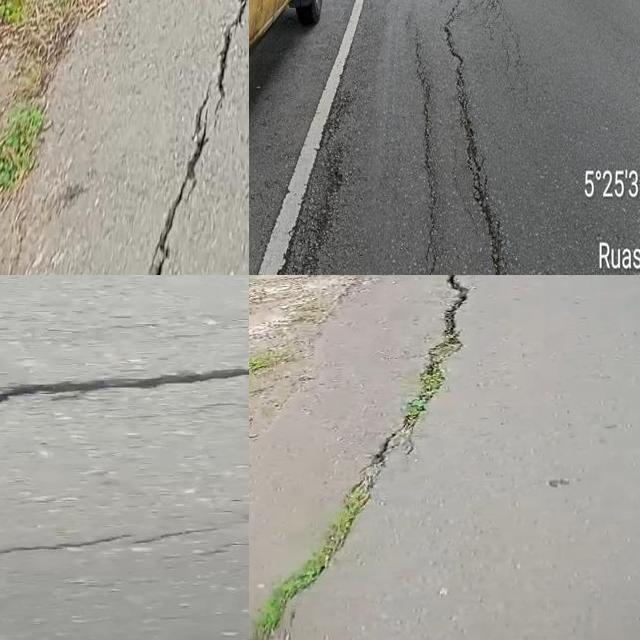Melintang: (0, 349, 249, 420)
Memanjang: (249, 275, 482, 640), (135, 0, 249, 275), (434, 0, 516, 275)
